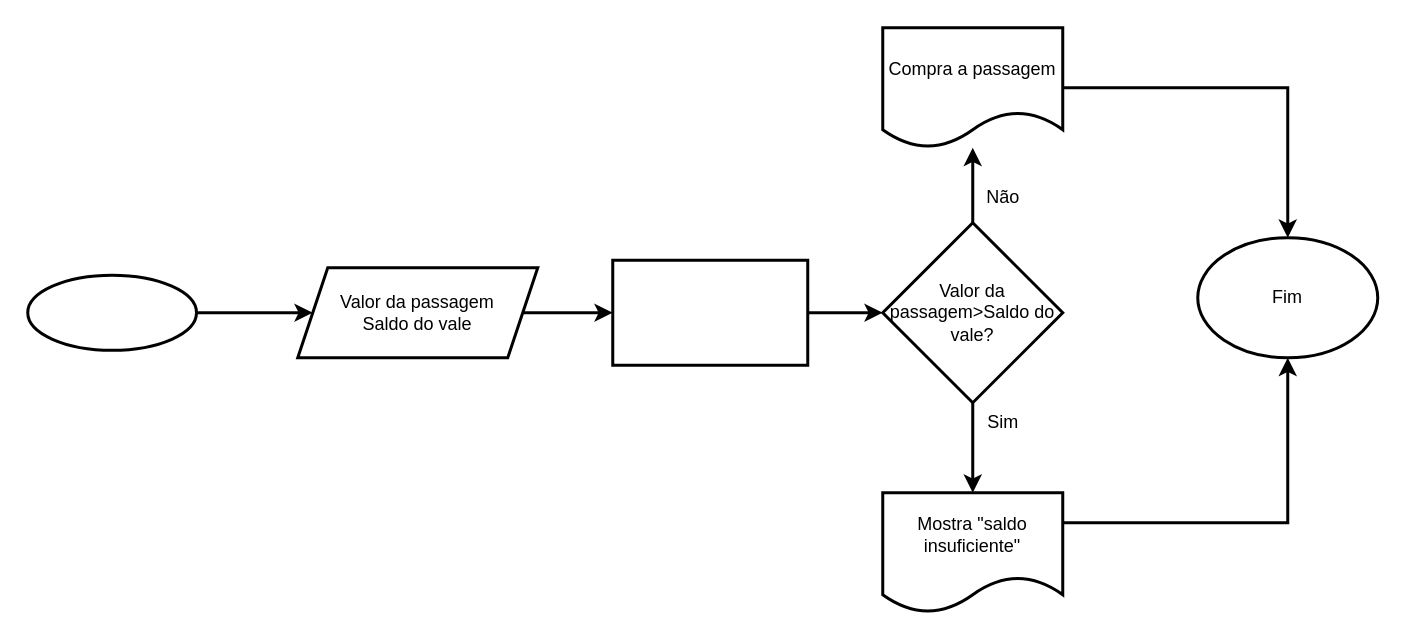
Some shapes in this 1404 by 639 pixel diagram are drawn without their labels. Each missing label, with the box of its shape:
Inicio: (26, 273, 197, 351)
Processa os valores: (610, 258, 808, 366)
